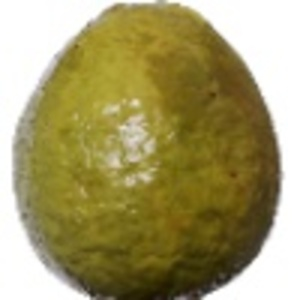goiaba: (13, 3, 285, 297)
